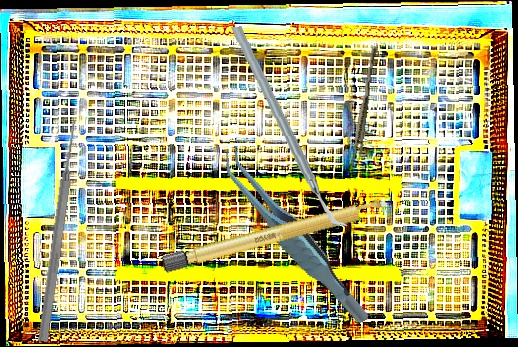Chopper: (230, 21, 349, 232)
Pusher: (35, 118, 83, 343)
Scalpel Handle: (160, 194, 395, 275)
Tissue Forceps: (218, 127, 370, 346), (350, 45, 379, 168)
